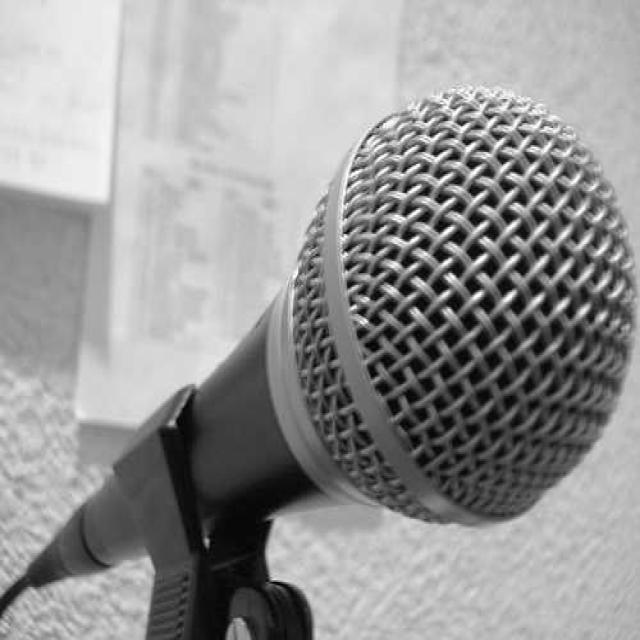microphone: (4, 83, 628, 630)
